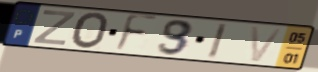9: (155, 19, 197, 58)
F: (112, 13, 161, 54)
I: (205, 22, 230, 61)
O: (69, 11, 111, 51)
V: (249, 25, 286, 64)
Z: (30, 9, 78, 47)
